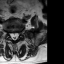CCS_normal: (12, 29, 15, 42)
LFS_stenosis: (19, 29, 21, 36)
LLS_normal: (16, 30, 19, 41)
RFS_severe_stenosis: (7, 29, 9, 36)
RLS_normal: (9, 29, 12, 40)
